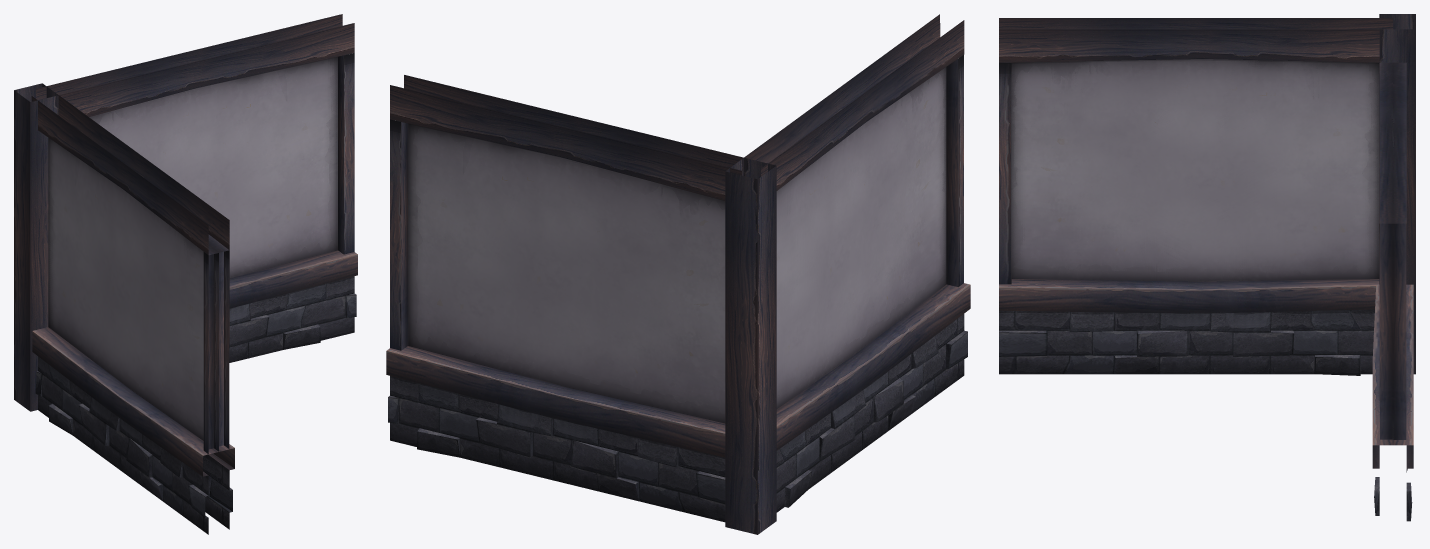
The model's file is WallCorner_2sided_detailed.fbx.
3 renders of one model, left to right at view 1: azimuth 30°, elevation 25°; view 2: azimuth 150°, elevation 25°; view 3: azimuth 270°, elevation 25°, orthographic. The views are drawn at different scales.
Parts seen in each view (by area): view 1: WallCorner_2sided_detailed; view 2: WallCorner_2sided_detailed; view 3: WallCorner_2sided_detailed.
Part boxes in pixels (<box>): WallCorner_2sided_detailed: <box>14,14,357,534</box>; WallCorner_2sided_detailed: <box>386,14,970,534</box>; WallCorner_2sided_detailed: <box>999,14,1415,521</box>.
Size of the model in its own units: 0.6867 by 0.6266 by 0.6863.
